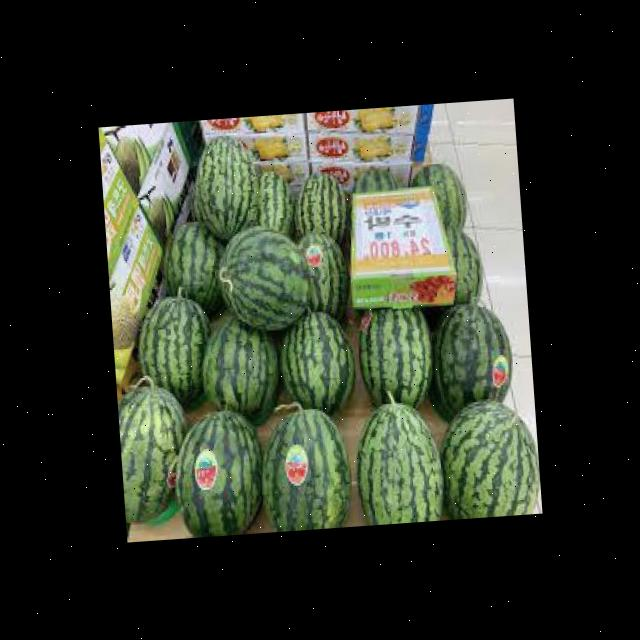watermelon: (435, 396, 542, 520), (171, 408, 270, 538), (255, 406, 355, 532), (352, 399, 447, 526), (215, 222, 318, 332), (116, 382, 196, 523), (197, 306, 284, 429), (428, 300, 516, 421), (134, 292, 217, 414), (276, 306, 360, 419), (355, 304, 437, 414), (188, 132, 262, 242), (160, 219, 227, 317), (294, 228, 352, 324), (291, 168, 354, 250), (408, 161, 468, 234), (444, 220, 486, 308), (254, 169, 296, 236), (350, 164, 406, 193)
